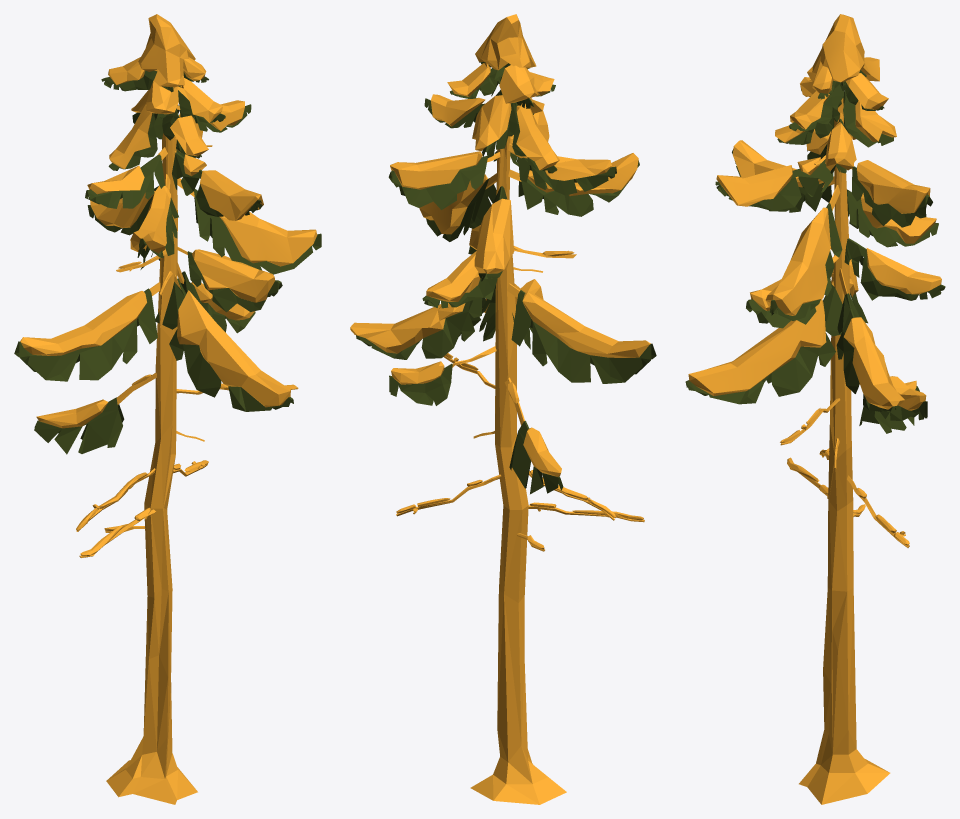
The model's file is SM_Tree_Spruce_Mature_Snow.fbx.
3 renders of one model, left to right at view 1: azimuth 30°, elevation 25°; view 2: azimuth 150°, elevation 25°; view 3: azimuth 270°, elevation 25°, orthographic.
Parts seen in each view (by area): view 1: tree-spruce-mature-snow; view 2: tree-spruce-mature-snow; view 3: tree-spruce-mature-snow.
Part boxes in pixels (x1=…): tree-spruce-mature-snow: x1=14, y1=14, x2=321, y2=804; tree-spruce-mature-snow: x1=350, y1=14, x2=656, y2=804; tree-spruce-mature-snow: x1=685, y1=14, x2=945, y2=804.
Size of the model in its own units: 4.97 by 13.4 by 4.07.
